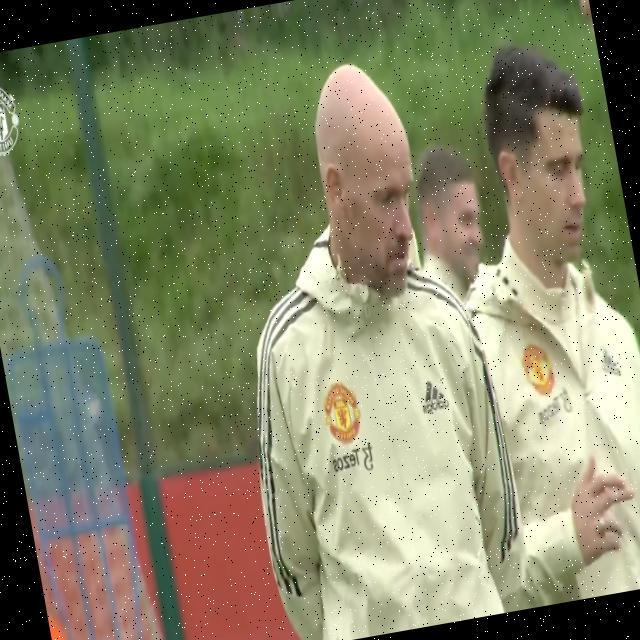Adidas: (416, 376, 452, 416), (597, 344, 623, 378)
